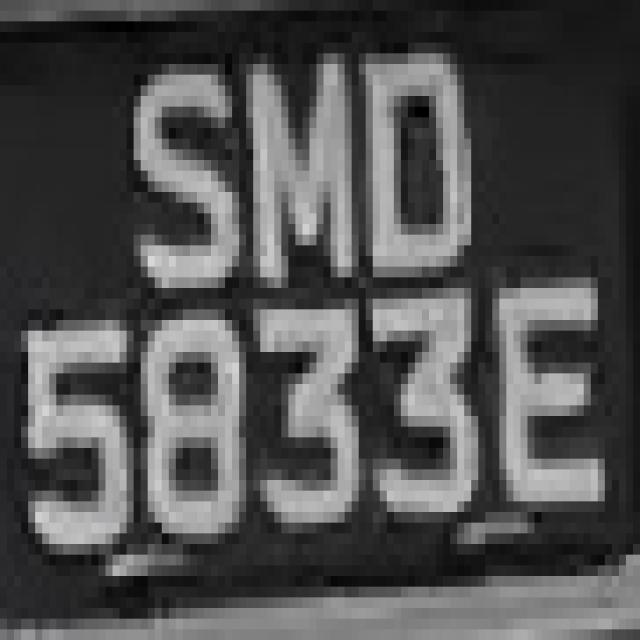3: (359, 256, 485, 533), (225, 298, 373, 522)
5: (14, 320, 134, 555)
8: (134, 277, 253, 587)
D: (359, 53, 478, 310)
E: (471, 267, 612, 533)
M: (218, 21, 359, 299)
S: (106, 21, 253, 299)
